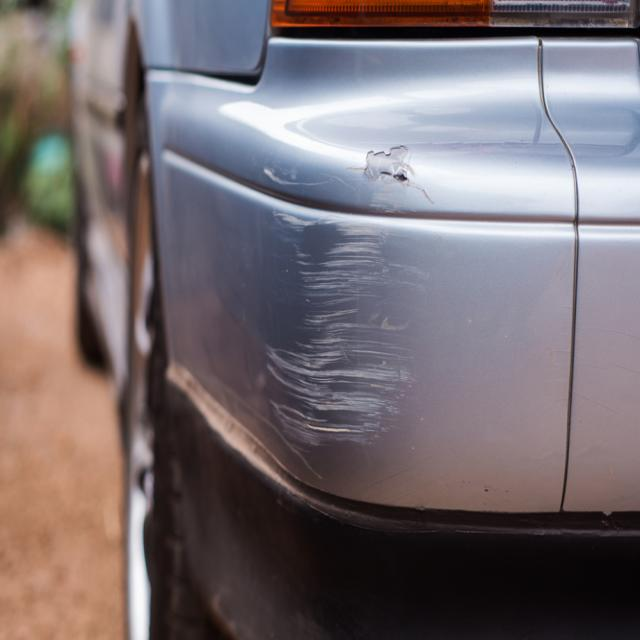Rayure: (243, 134, 450, 483), (209, 379, 328, 493)
